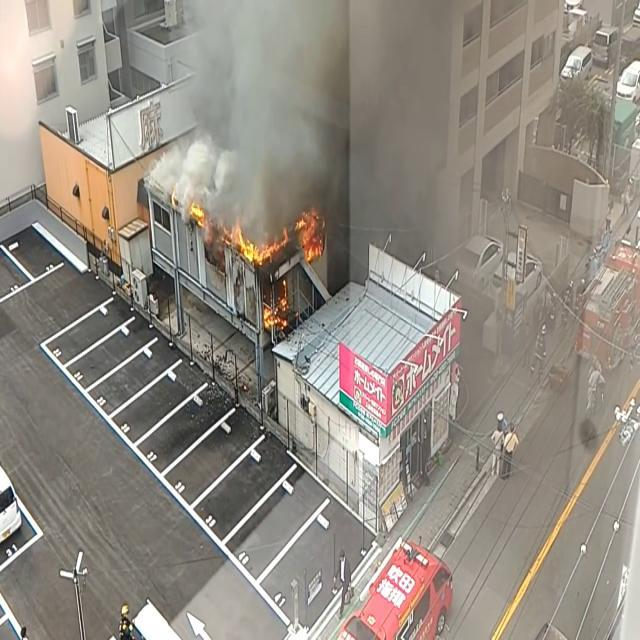Fire: (294, 202, 328, 268), (186, 198, 208, 232)
Smoke: (159, 0, 459, 250)
